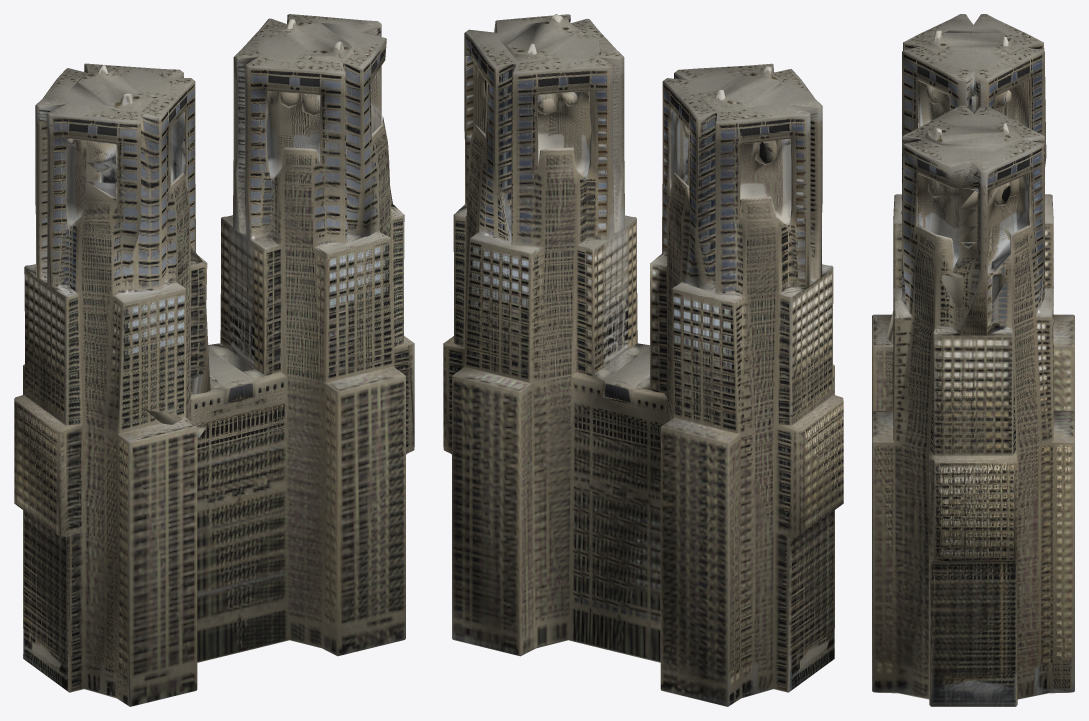
File: twin_towers.glb
The picture shows the model from 3 angles, left to right: view 1: azimuth 30°, elevation 25°; view 2: azimuth 150°, elevation 25°; view 3: azimuth 270°, elevation 25°; orthographic projection. The views are drawn at different scales.
Bounding box in the file's own units: 1.23 × 1.91 × 0.638.
Materials: 1 (1 with a texture image).
